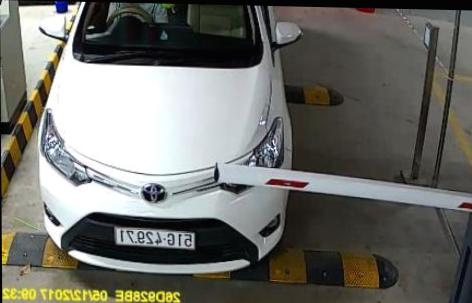License_Plate: (109, 224, 199, 252)
